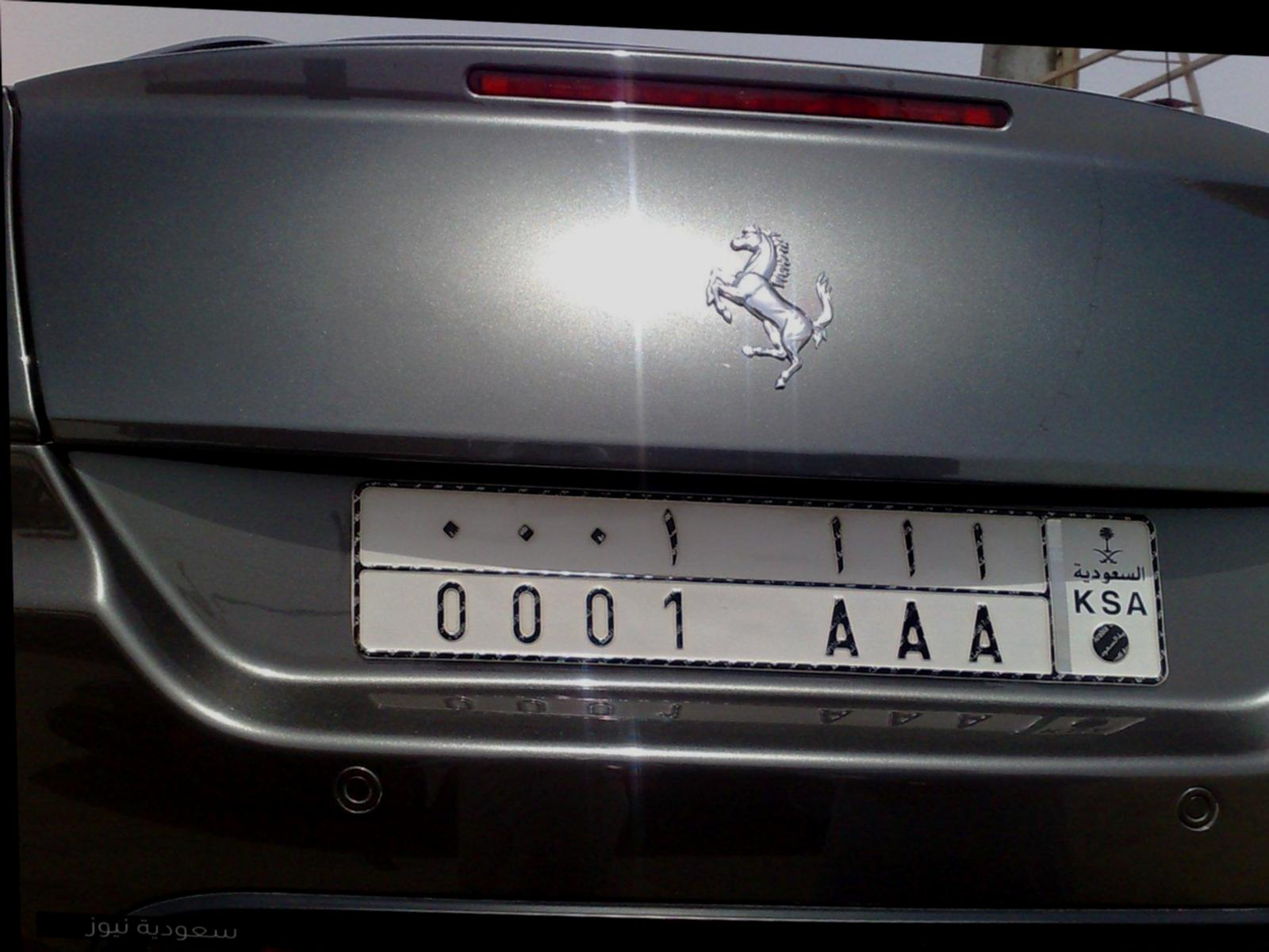License_Plate: (342, 470, 1188, 704)
